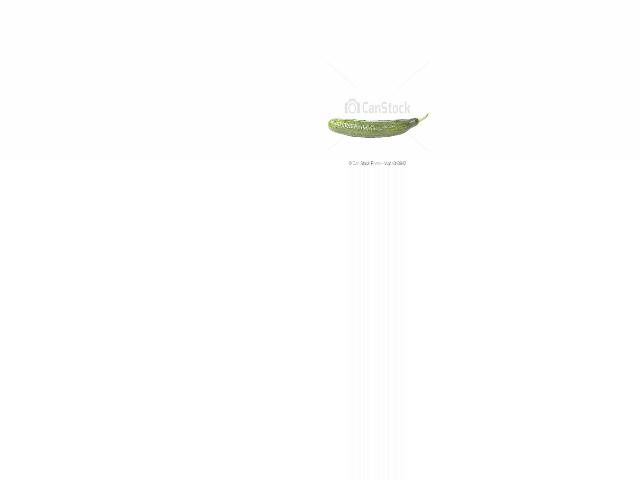cucumber: (328, 114, 429, 138)
